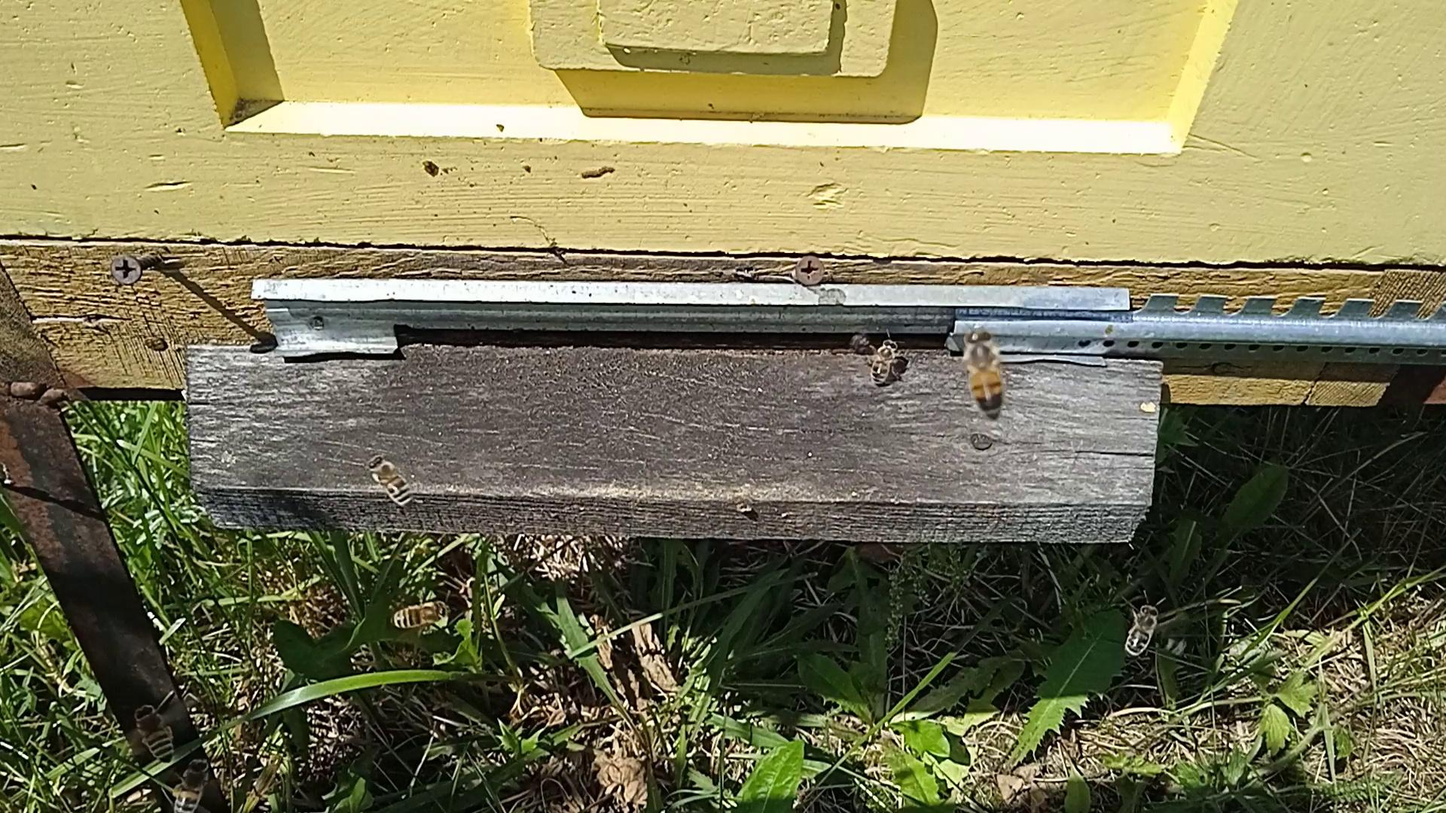worker-bee: (962, 329, 1007, 418), (131, 702, 175, 763), (367, 454, 413, 507), (389, 601, 452, 635), (1124, 603, 1161, 658), (172, 759, 209, 813), (867, 339, 902, 387), (848, 331, 874, 354)
